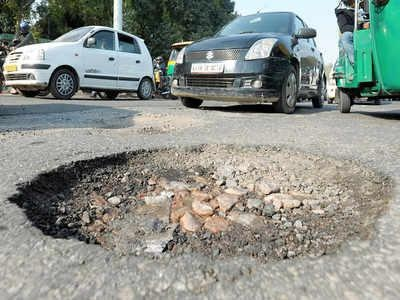pothole: (5, 139, 396, 262), (117, 109, 203, 134)
